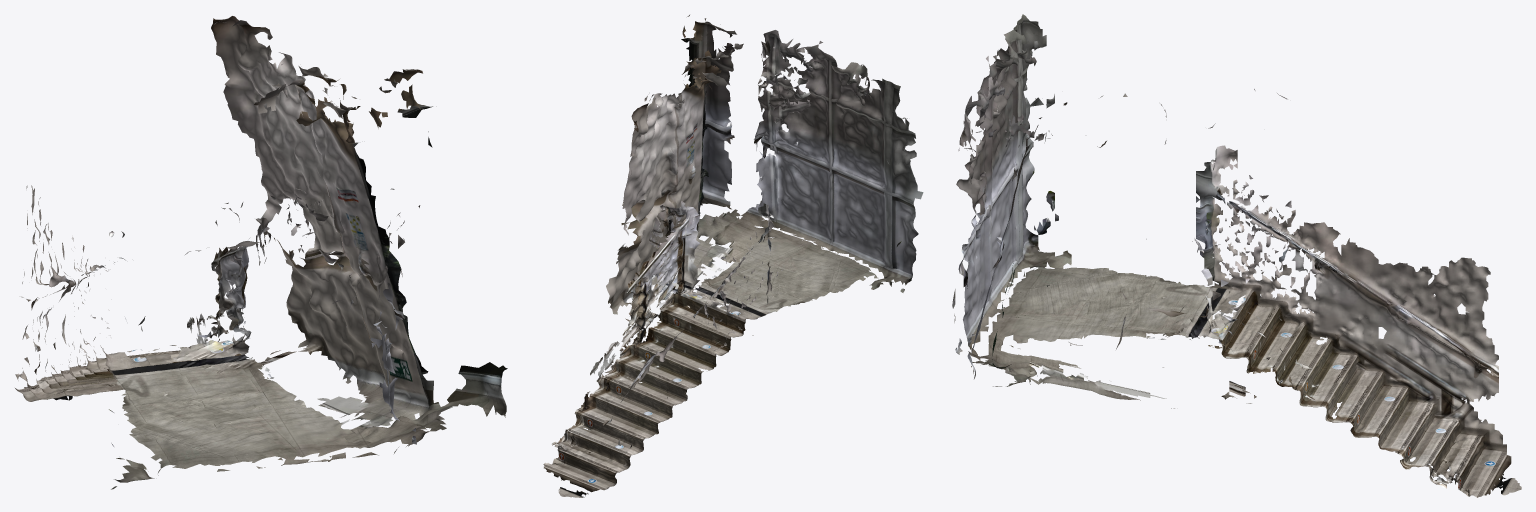
Rendered from 144567-TanggaC-tex.glb.
3 views of the same model, side by side, from view 1: azimuth 30°, elevation 25°; view 2: azimuth 150°, elevation 25°; view 3: azimuth 270°, elevation 25° (orthographic). The views are drawn at different scales.
Parts seen in each view (by area): view 1: Node; view 2: Node; view 3: Node.
Boxes of the visible parts, x1,y1,x2,y2 form: Node: (15, 16, 507, 489); Node: (543, 15, 923, 497); Node: (952, 14, 1521, 497).
Bounding box in the file's own units: 3.9 × 4.79 × 5.76.
11 materials, 11 textured.
